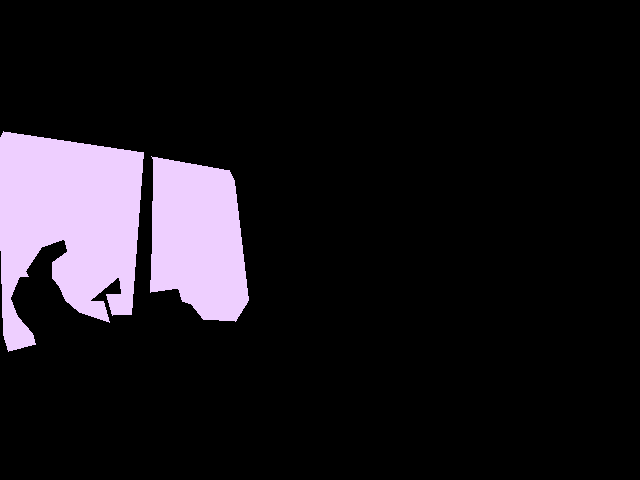Train: (0, 131, 248, 351)
